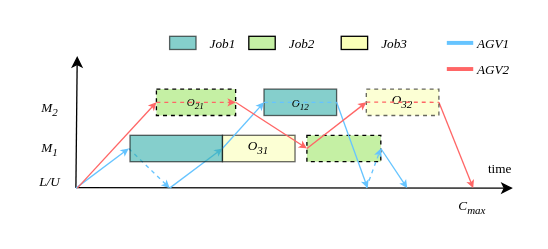
This 548x249 diagram has some shape labels left out. The shapes that lost their labels are listed below. From the top down, each one's centre as x and y in pixels, then its label:
At (x=175, y=148): "O 11".
At (x=343, y=148): "O 22".
